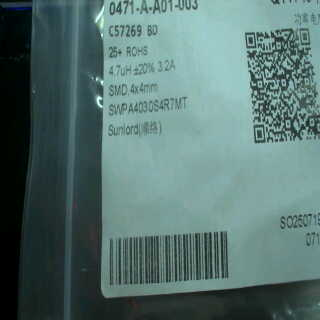4.7uH: (106, 60, 134, 83)
